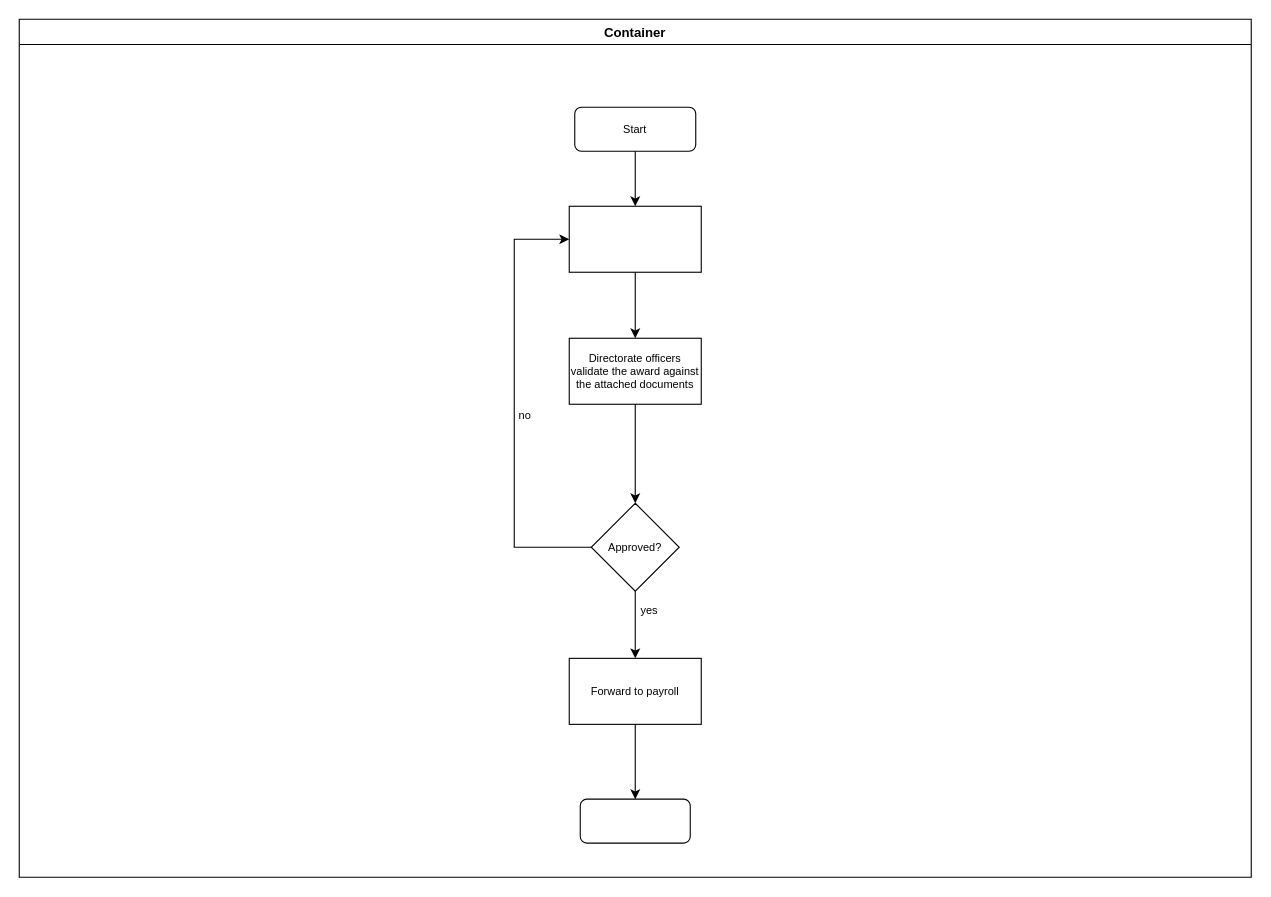
Some shapes in this 1271 by 897 pixel diagram are drawn without their labels. Each missing label, with the box of its shape:
End: (579, 798, 690, 843)
Team leader at the Directorate distributes work to directorate officers: (568, 205, 701, 272)
